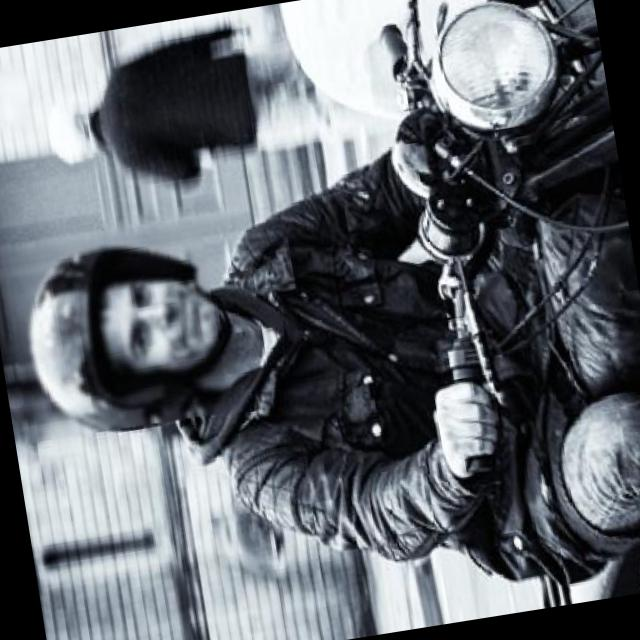With Helmet: (1, 218, 230, 440)
